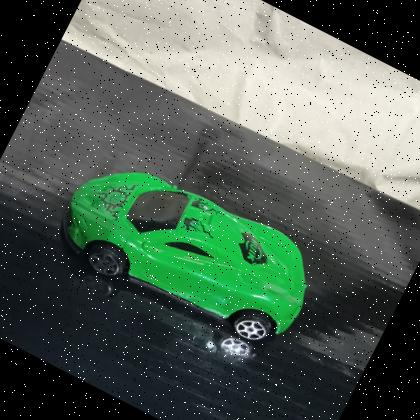Car: (59, 172, 306, 348)
